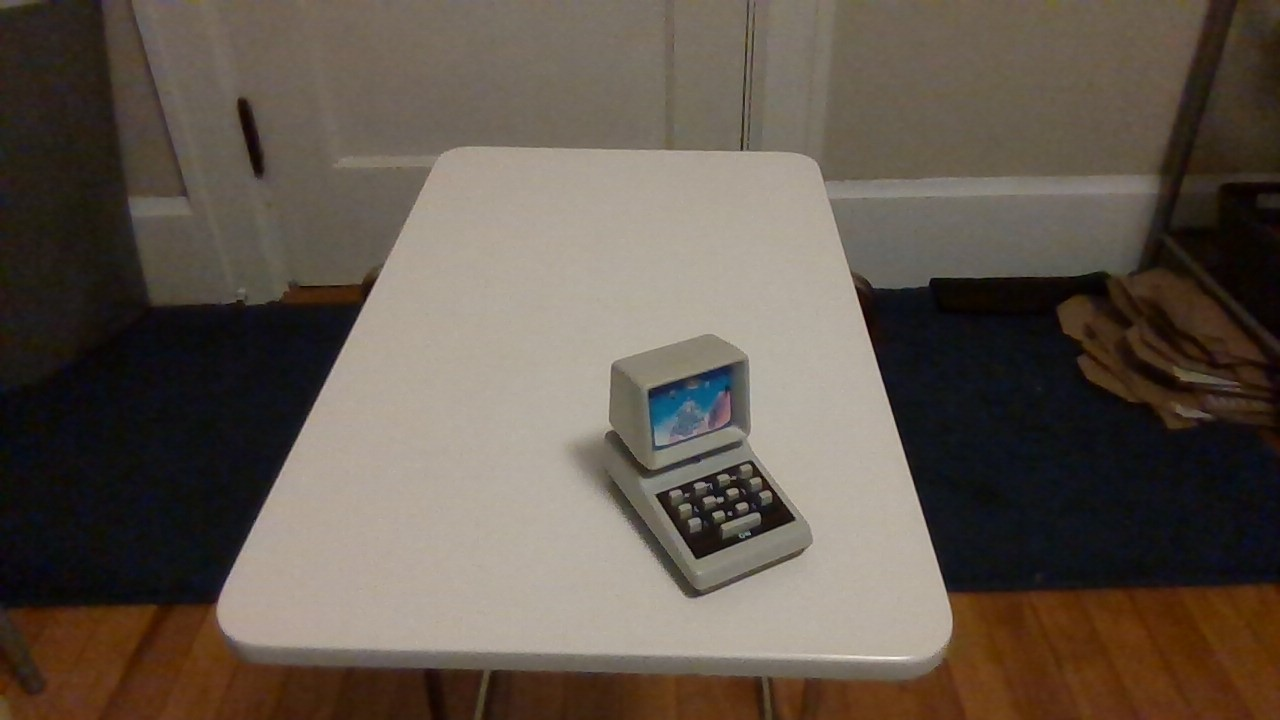Toy: (557, 300, 844, 611)
